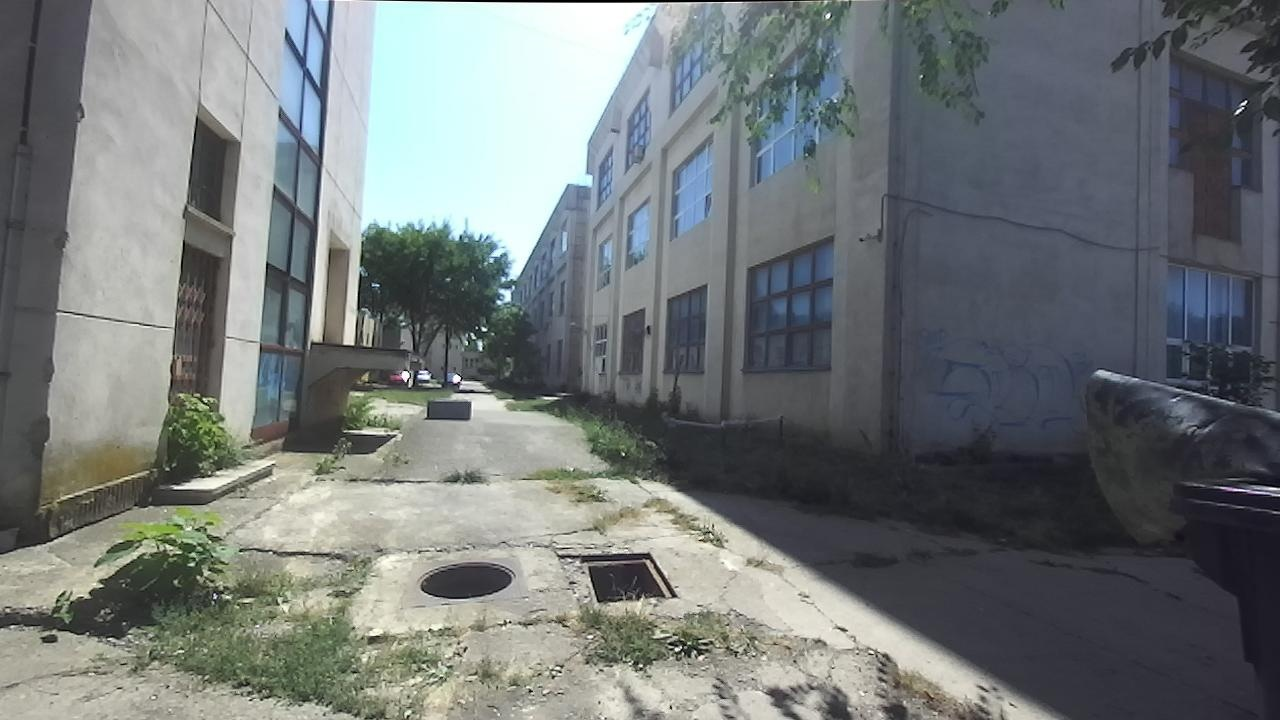drain: (577, 550, 681, 604), (412, 557, 520, 600)
